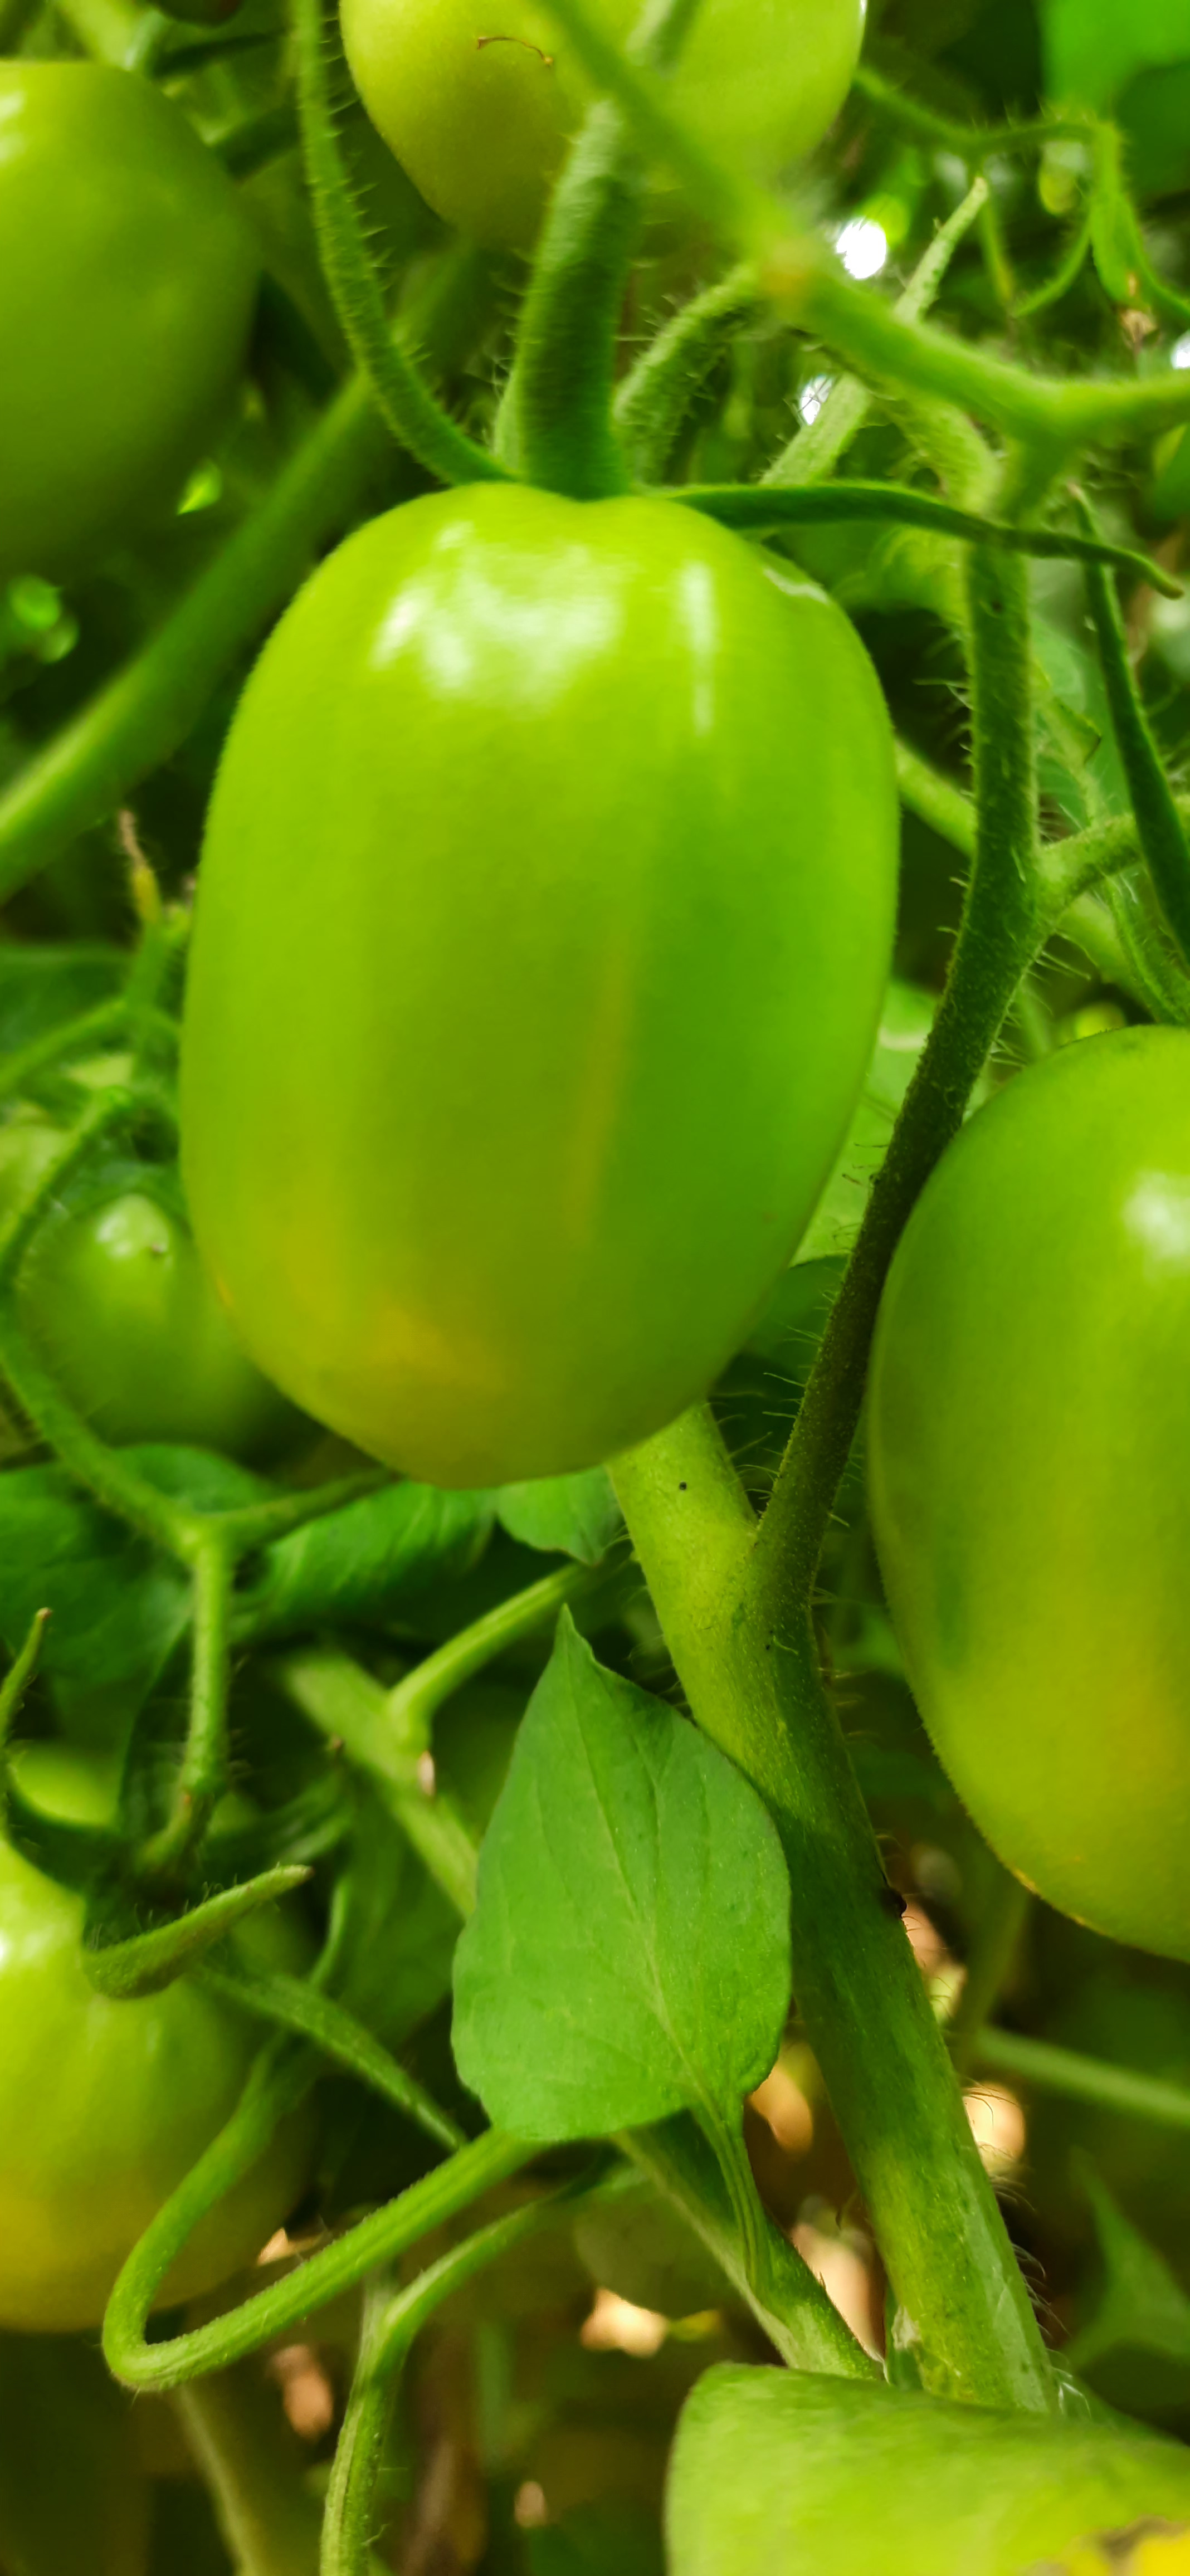raw_tomato: (110, 389, 996, 1630)
